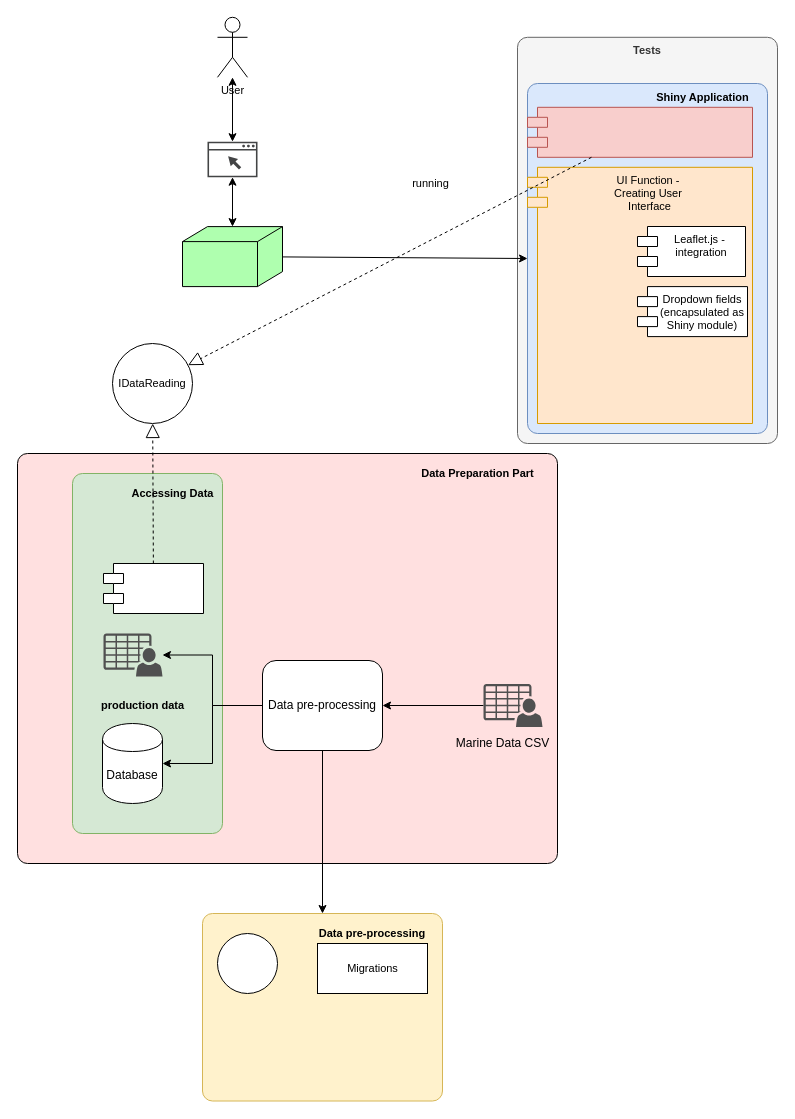
Some shapes in this 795 by 1119 pixel diagram are drawn without their labels. The centre of each missing label's shape, as x and y in pixels:
API read data: (153,588)
ORM: (247,963)
Server Function - Controler Logic: (639,131)
SHINY SERVER: (232,256)
